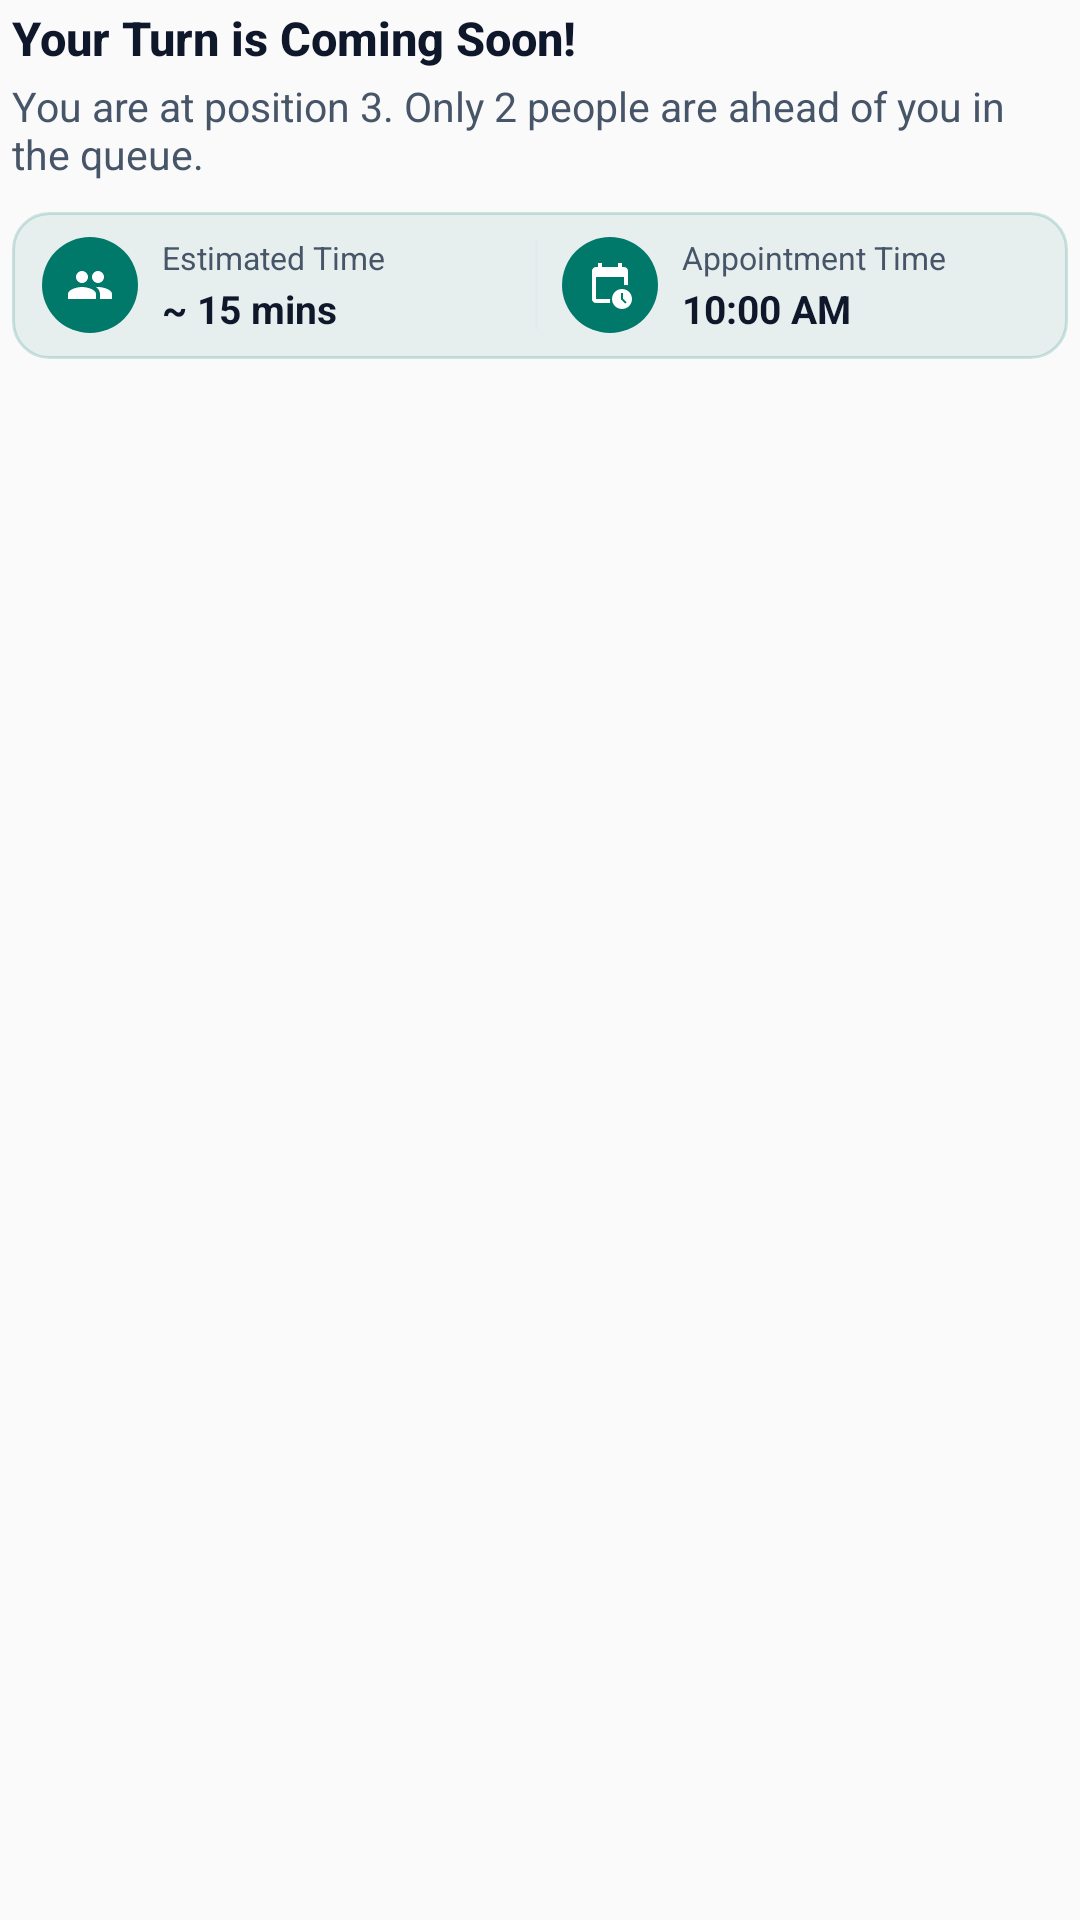

Icon click points for this 1080 × 1920 phone screenshot, format (x,y):
notif calendar clock: (612,286)
notif people: (90,285)
